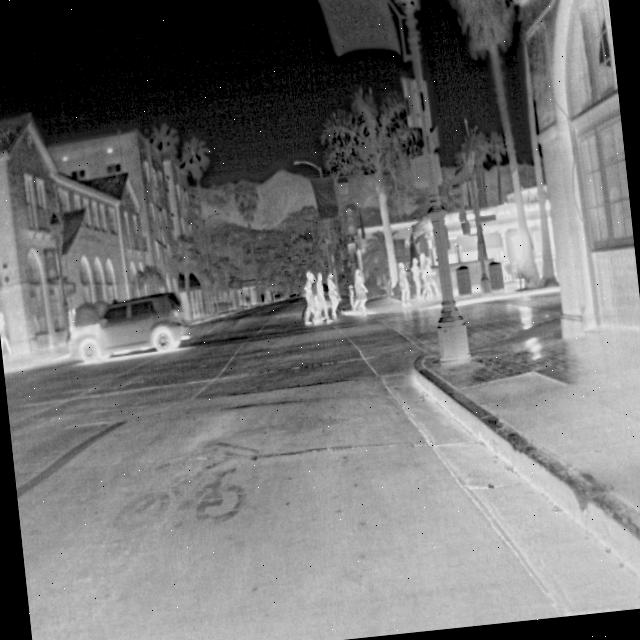Pedestrian: (310, 271, 334, 325), (300, 269, 322, 326), (348, 266, 369, 316), (420, 255, 441, 304), (323, 271, 342, 320), (394, 259, 412, 308), (409, 255, 426, 302), (0, 308, 13, 357)
Vehicle: (60, 286, 194, 368)
